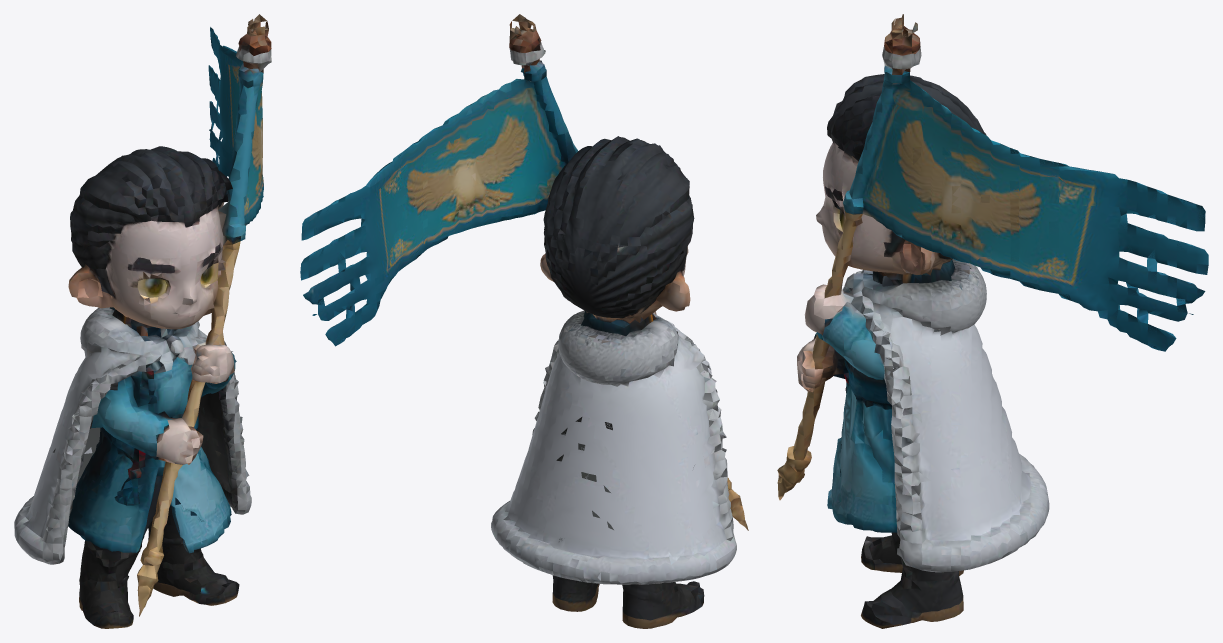
File: naqinshanghuer.glb
3 renders of one model, left to right at view 1: azimuth 30°, elevation 25°; view 2: azimuth 150°, elevation 25°; view 3: azimuth 270°, elevation 25°, orthographic. The views are drawn at different scales.
Size of the model in its own units: 1.54 by 2.7 by 1.66.
Materials: 1 (1 with a texture image).
